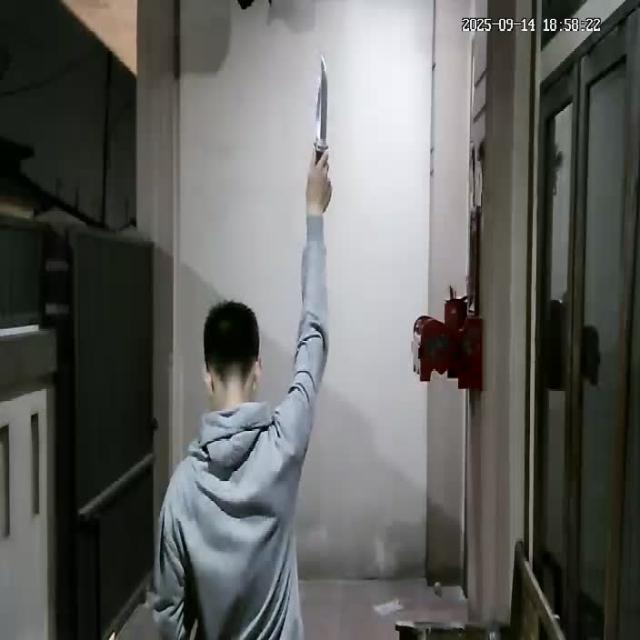senjata_tajam: (312, 55, 331, 153)
